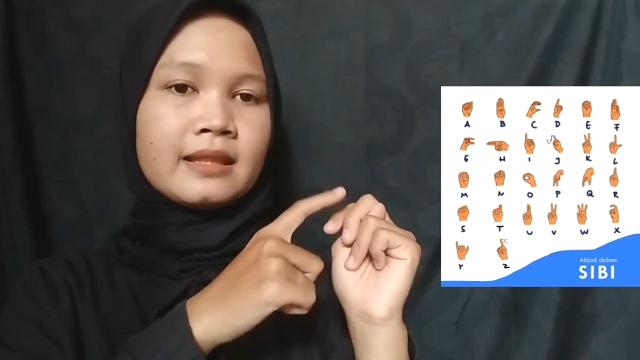N: (323, 187, 425, 316)
